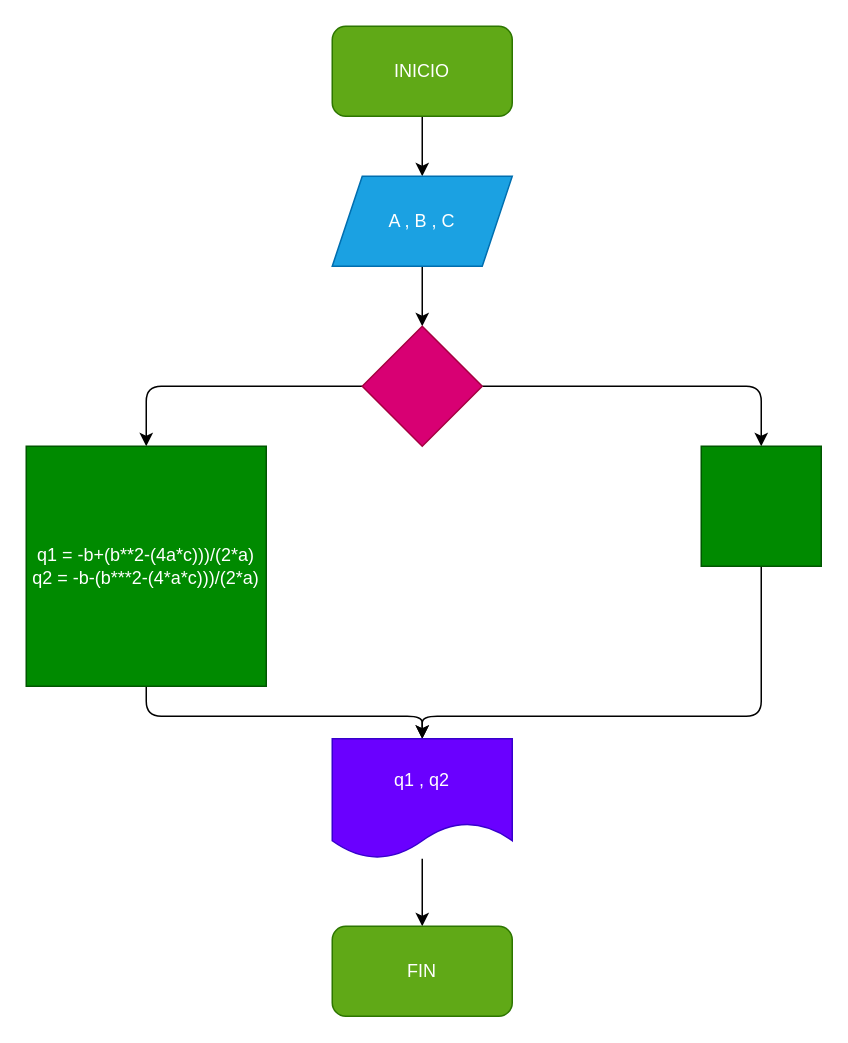
Image size: 848x1043. Some labels were removed from this diagram. Each missing label, with the centre of its shape:
"SON COMPLEJOS" goes at [760,505].
"W < 0" goes at [421,385].
